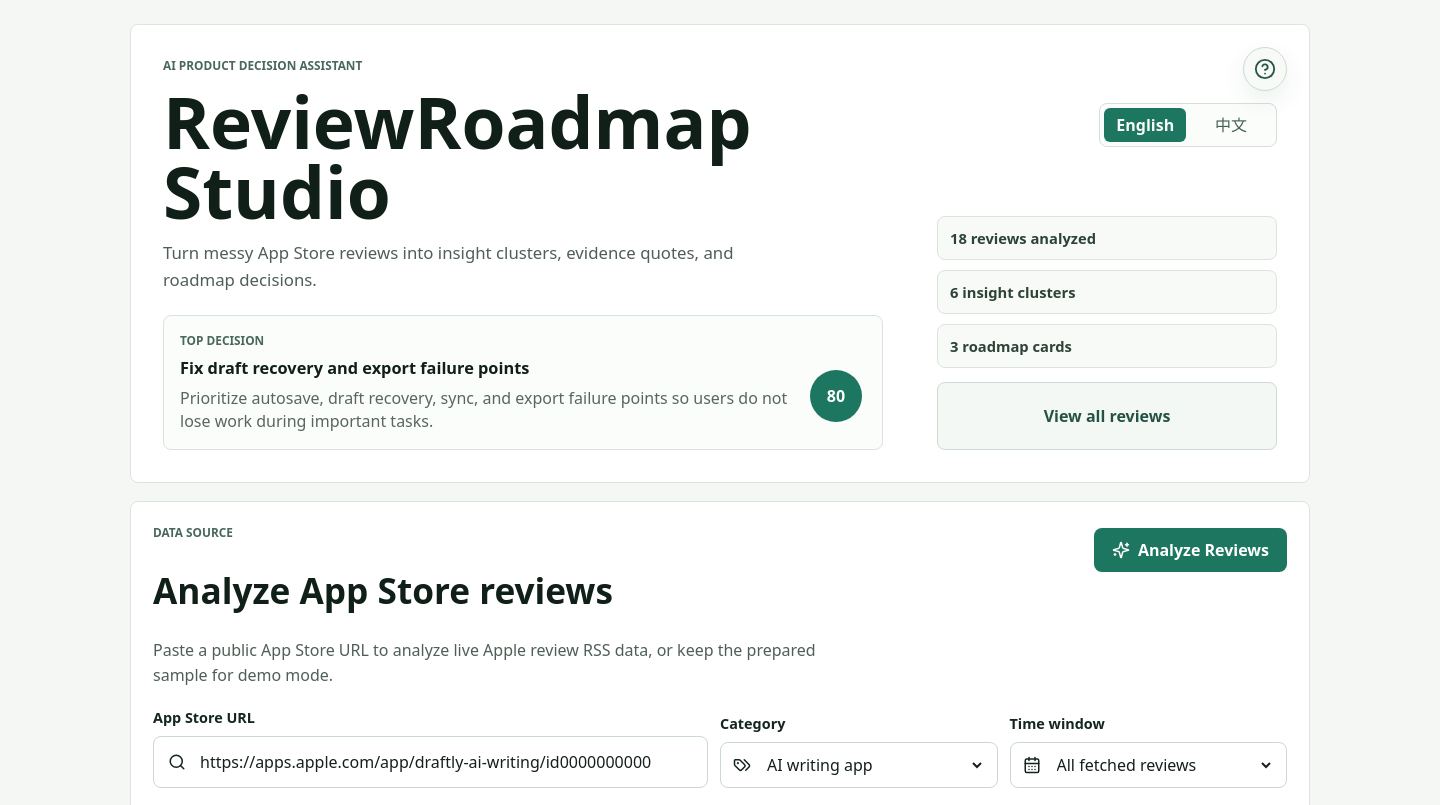
Test: App › shows the unified formulas in Chinese calculation guide
This screenshot has width=1440, height=805.
Click the button "中文" at (1231,125), box [1190,108,1272,142]
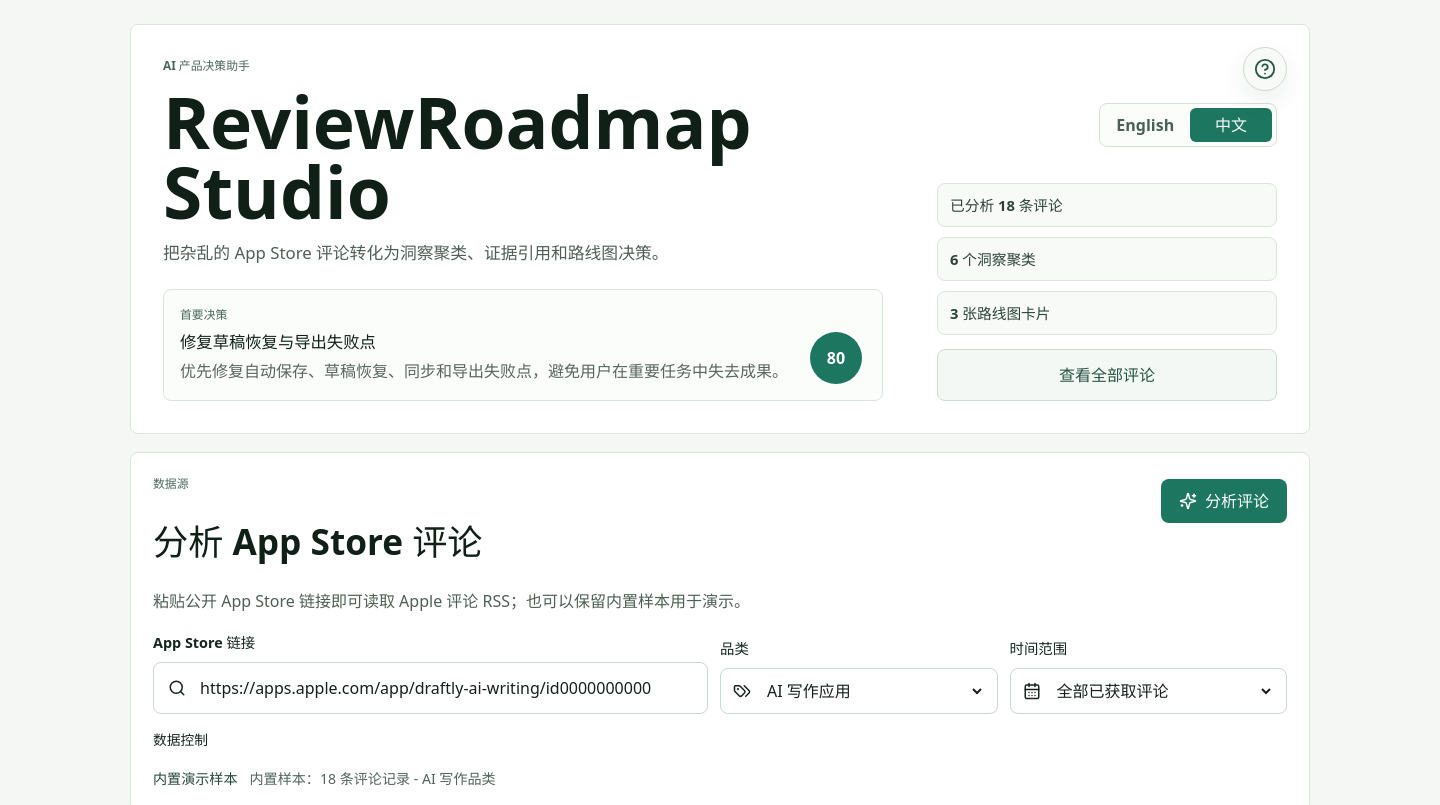
Click the button named "打开计算说明" at (1265,69), box [1243,47,1287,91]
(page scrolled)
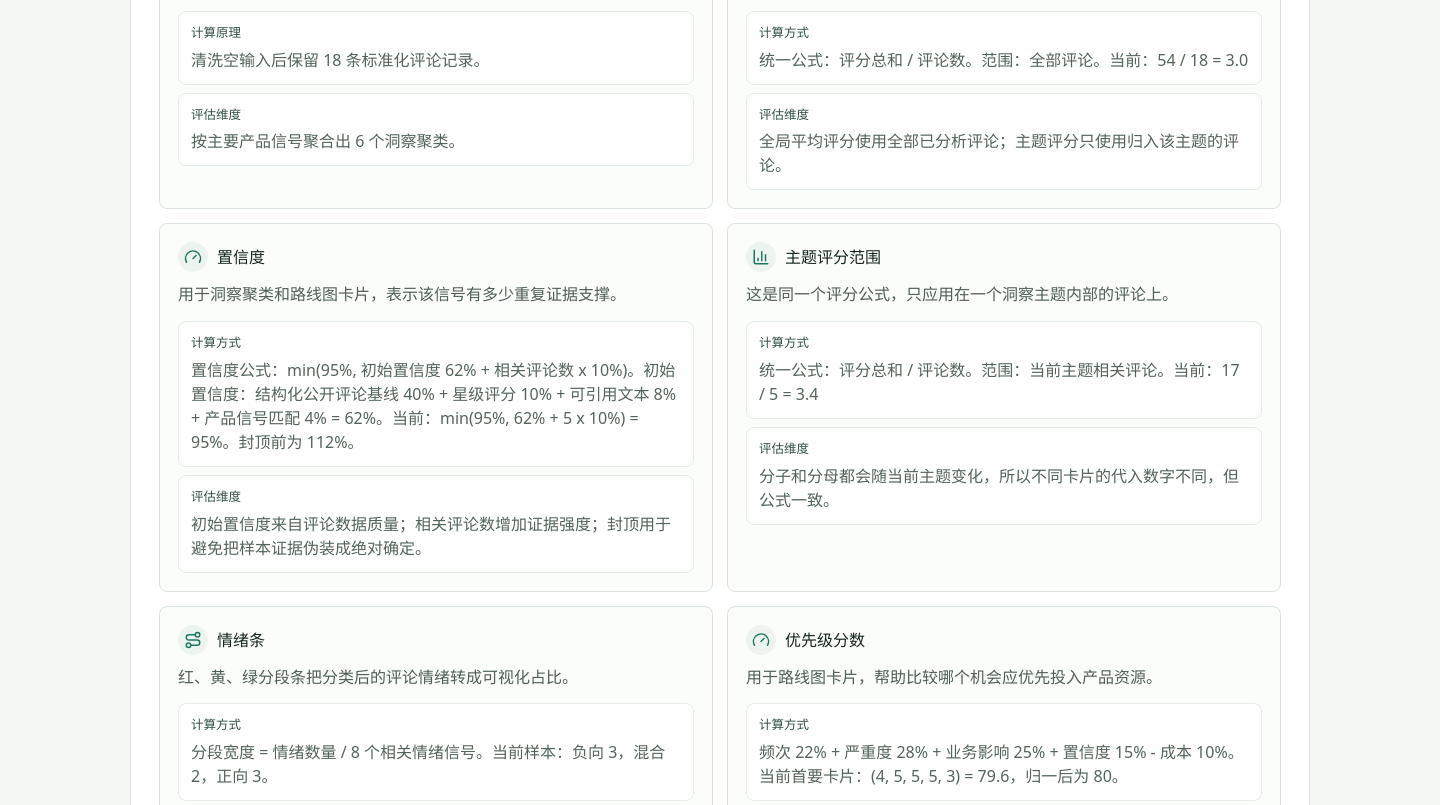
Now the text "统一公式：评分总和 / 评论数。范围：全部评论。当前：54 / 18 = 3.0" is shown, box [759,48,1249,72]
Now the text "当前：min(95%, 62% + 5 x 10%) = 95%" is shown, box [191,359,676,453]
